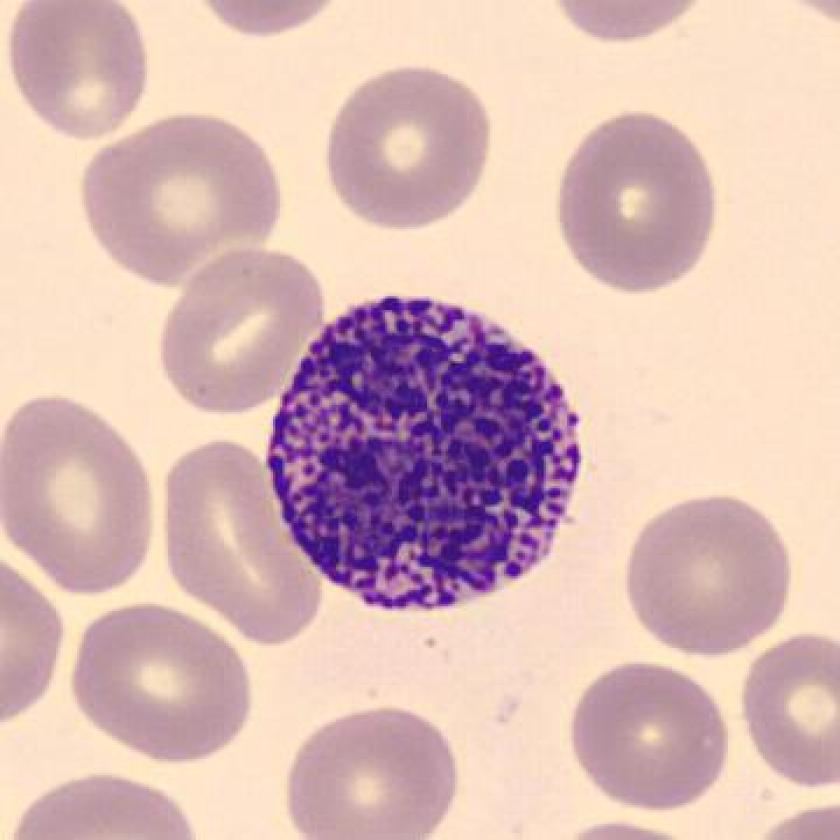basophil: (272, 290, 591, 621)
